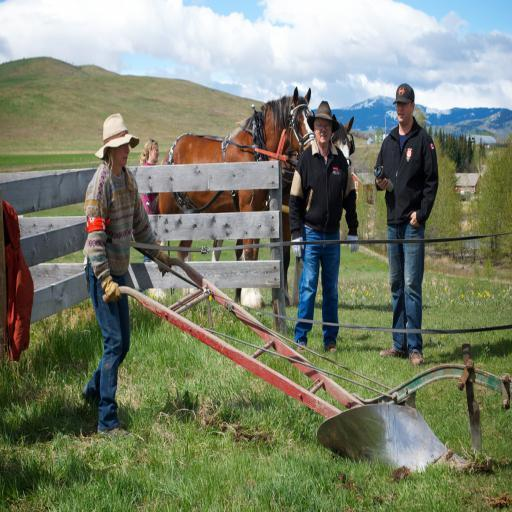horse: (150, 84, 318, 310), (209, 114, 355, 307)
